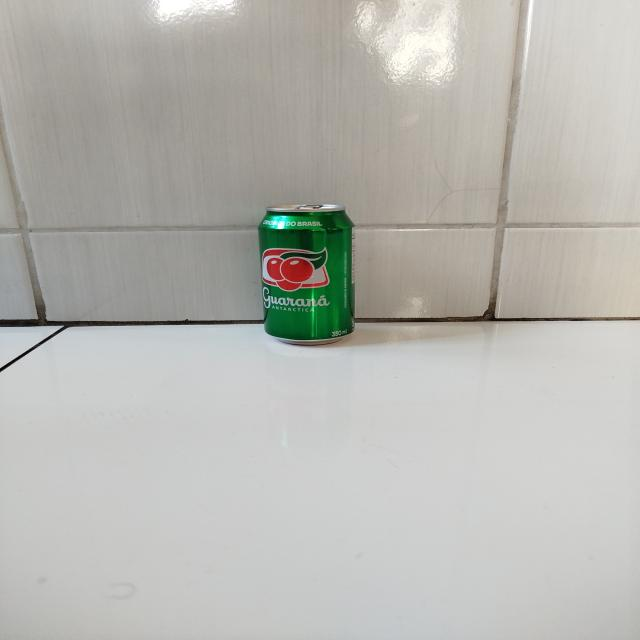Guarana: (258, 202, 362, 344)
